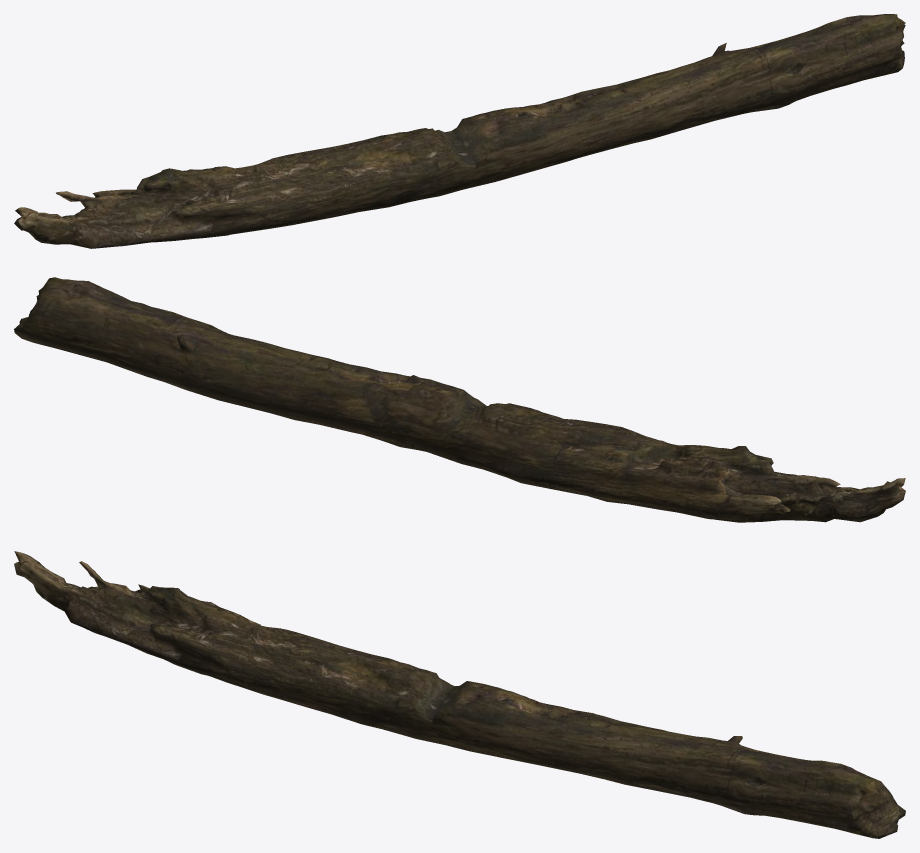
Rendered from log_dead.glb.
3 renders of one model, top to bottom at view 1: azimuth 30°, elevation 25°; view 2: azimuth 150°, elevation 25°; view 3: azimuth 330°, elevation 25°, orthographic.
Visible parts, largest first — view 1: log_dead; view 2: log_dead; view 3: log_dead.
Boxes of the visible parts, bbox=[...] form: log_dead: bbox=[14, 14, 905, 248]; log_dead: bbox=[14, 277, 905, 522]; log_dead: bbox=[14, 551, 905, 838].
Size of the model in its own units: 3.05 by 0.2899 by 0.2764.
Materials: 1 (1 with a texture image).
